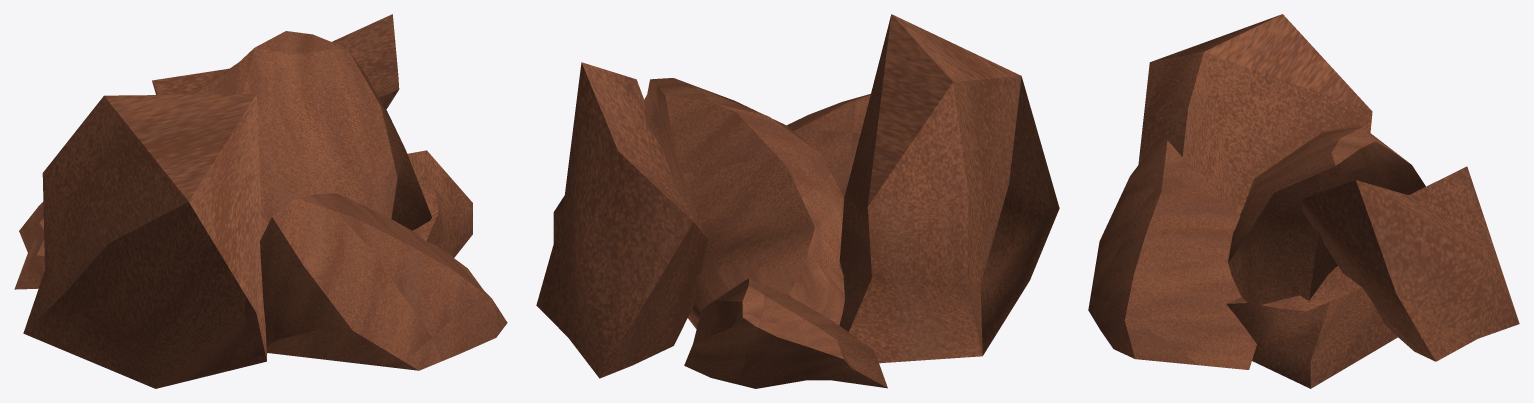
Rendered from rockvarient2.fbx.
The picture shows the model from 3 angles, left to right: view 1: azimuth 30°, elevation 25°; view 2: azimuth 150°, elevation 25°; view 3: azimuth 270°, elevation 25°; orthographic projection. The views are drawn at different scales.
Parts seen in each view (by area): view 1: pCube3; view 2: pCube3; view 3: pCube3.
Boxes of the visible parts, x1,y1,x2,y2 form: pCube3: (14,14,507,388); pCube3: (536,14,1059,388); pCube3: (1088,14,1519,388).
Bounding box in the file's own units: 14.44 × 8.15 × 14.13.
